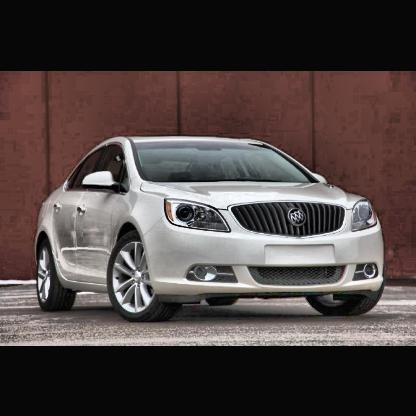Buick Verano Sedan 2012: (34, 136, 387, 319)
